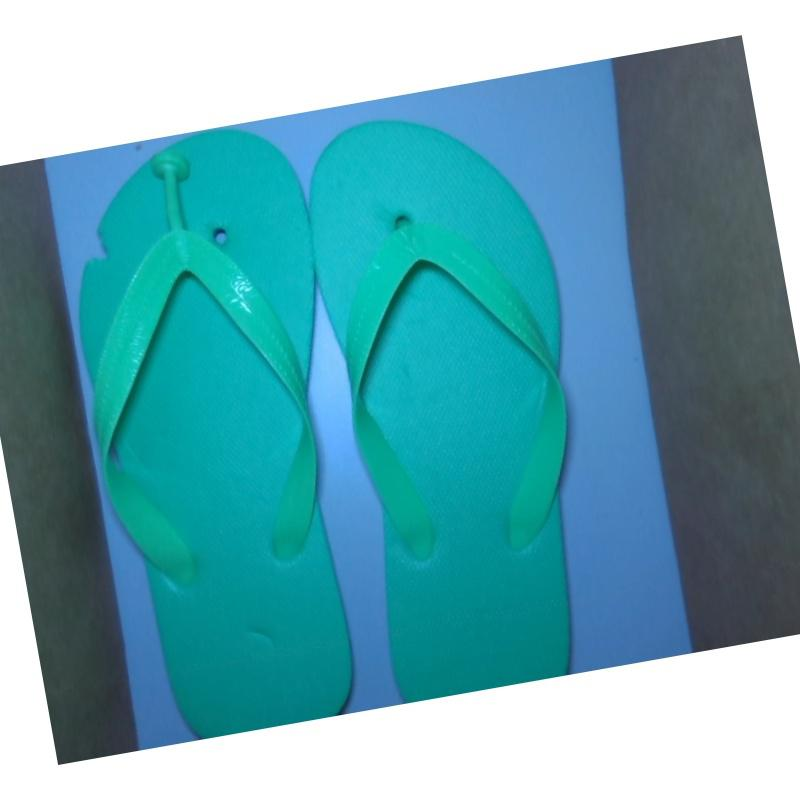chipped: (81, 214, 121, 280)
detached: (147, 146, 199, 199)
